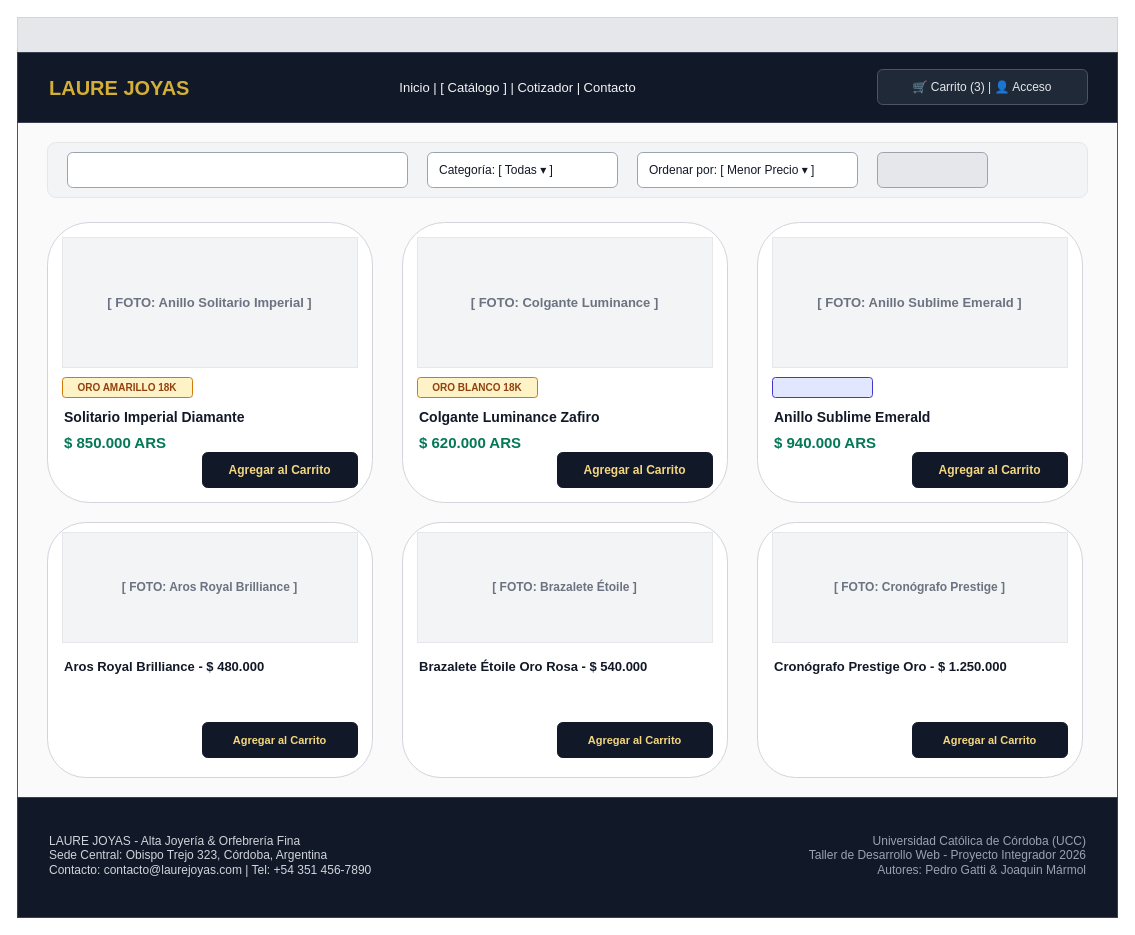
The diagram is 1135 pixels wide and 935 high, and some of its shapes have lost their labels. Here are the shapes that lost their labels. From the top down, the box of each, then its label:
(16, 16, 1118, 52): https://pedrogattiucc.github.io/proyecto2026-Gatti-Marmol/catalogo.html
(66, 152, 408, 188): 🔍 Buscar joyas (ej. Esmeralda, Oro 18k)...
(876, 152, 988, 188): Restablecer
(772, 376, 872, 398): PLATINO 950
